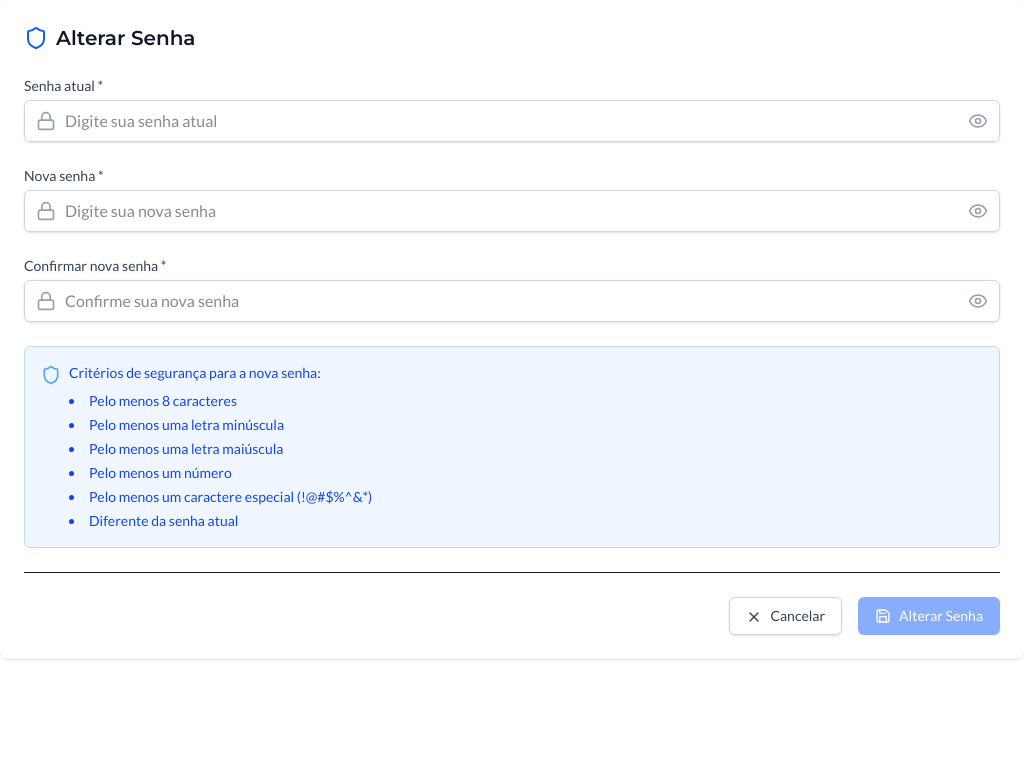
Test: PasswordChangeForm Integration › shows password strength feedback in real-time
// Type a weak password
In the password field labelled "Nova senha *": (512, 211) [24,190,1000,232], type "weak"
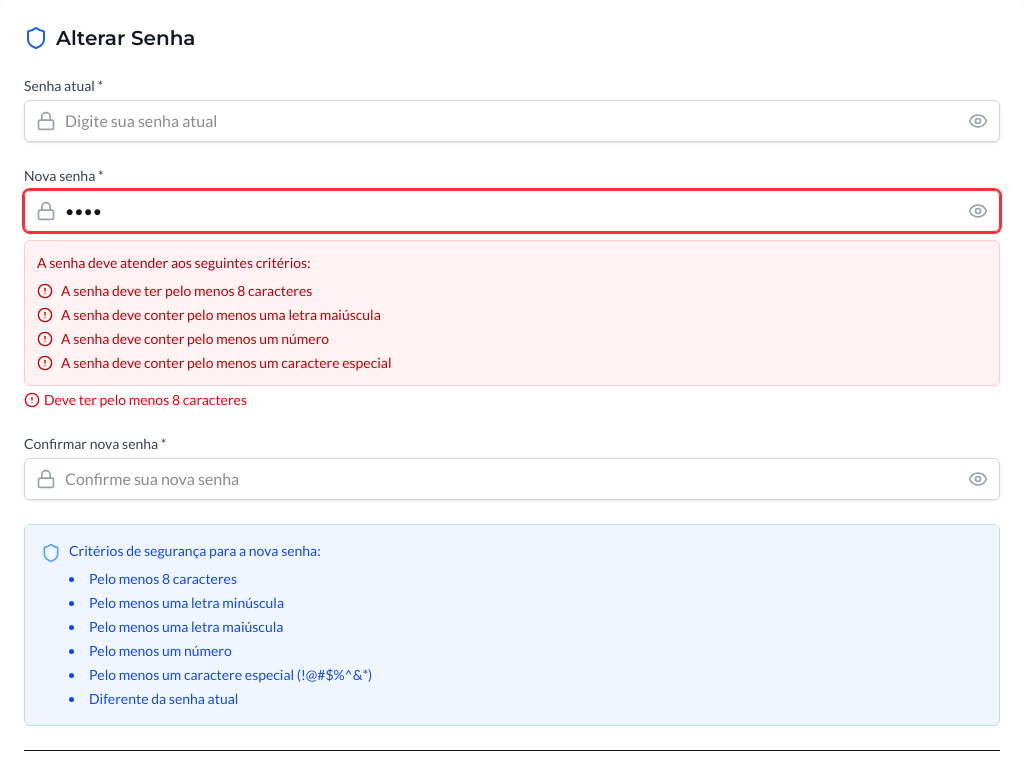
Result: the text "A senha deve atender aos seguintes critérios:" is shown at [37,254,311,271]
